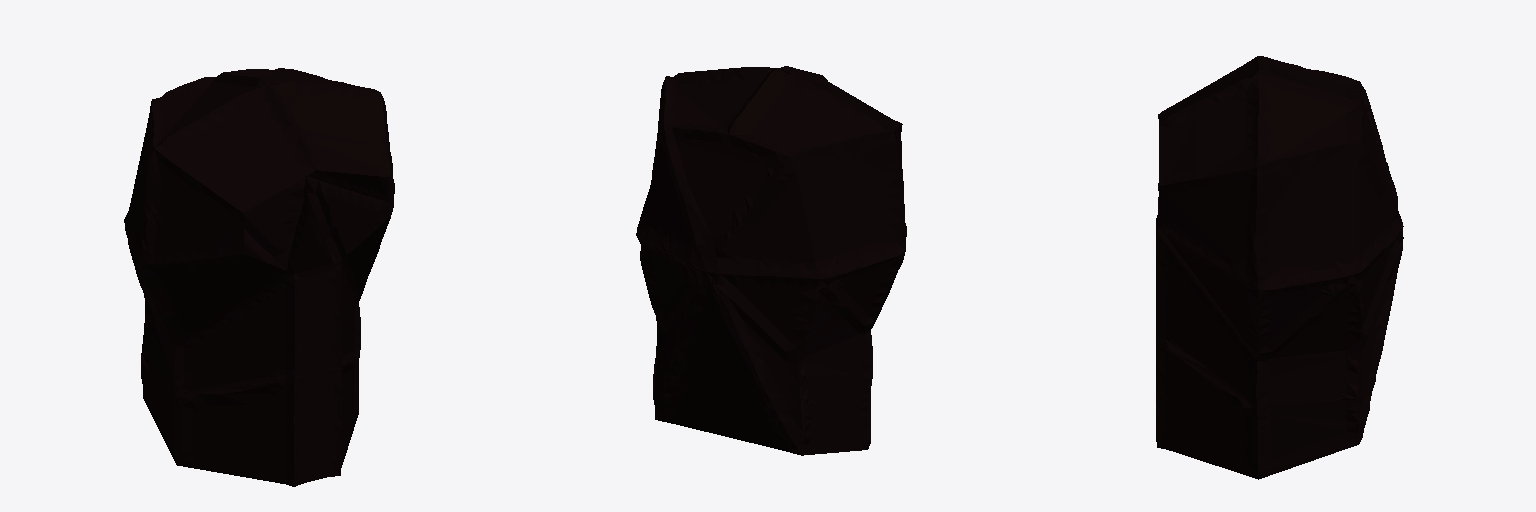
The model's file is welded.obj.
3 renders of one model, left to right at view 1: azimuth 30°, elevation 25°; view 2: azimuth 150°, elevation 25°; view 3: azimuth 270°, elevation 25°, orthographic.
Visible parts, largest first — view 1: Cube; view 2: Cube; view 3: Cube.
Part boxes in pixels (x1,y1,x2,y2): Cube: (124,68,394,486); Cube: (636,66,906,455); Cube: (1156,56,1403,479).
Bounding box in the file's own units: 6.25 × 8.46 × 5.26.